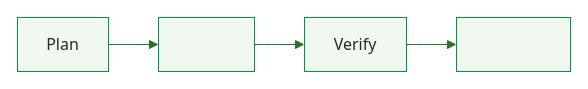
This 588x89 diagram has some shape labels left out. Each missing label, with the centre of its shape:
"Build" belongs at pixel 206 44.
"Release" belongs at pixel 513 44.
